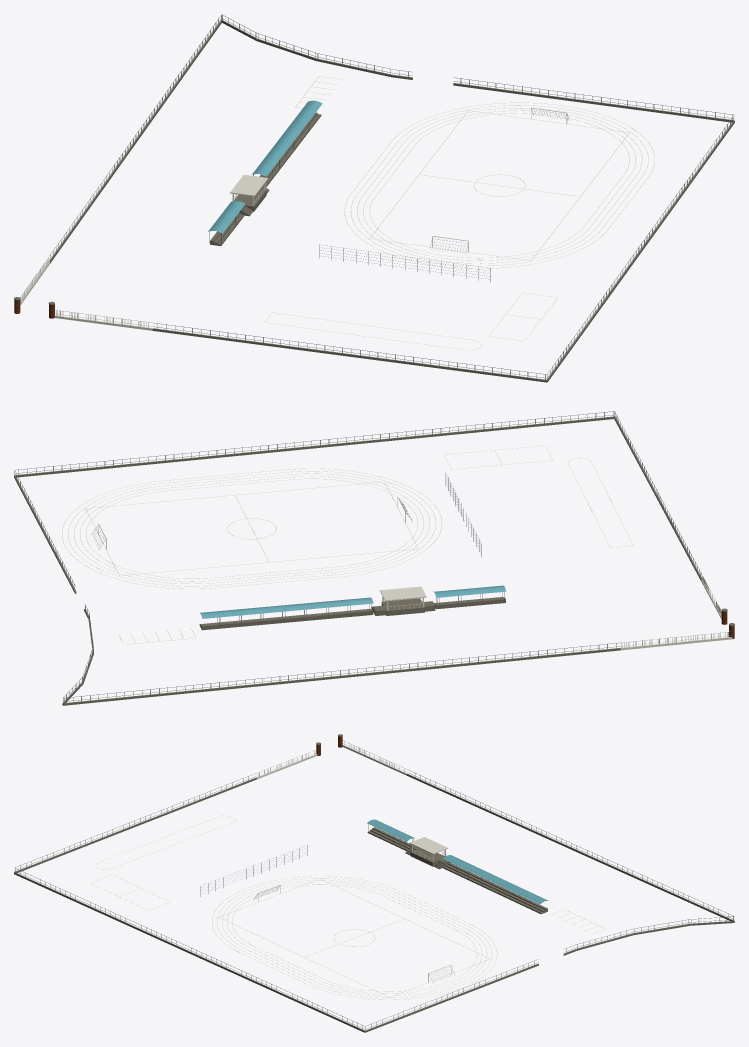
The picture shows the model from 3 angles, top to bottom: view 1: azimuth 30°, elevation 25°; view 2: azimuth 150°, elevation 25°; view 3: azimuth 270°, elevation 25°; orthographic projection. The views are drawn at different scales.
Visible parts, largest first — view 1: boundary-plinth__stand-concrete, track-lanes__line-paint, boundary-rails__site-steel, boundary-post__site-steel, stand-canopy-east__canopy-pale-blue, football-lines__line-paint; view 2: boundary-plinth__stand-concrete, track-lanes__line-paint, boundary-rails__site-steel, boundary-post__site-steel, stand-canopy-east__canopy-pale-blue, stand-east-tread-3__stand-concrete, football-lines__line-paint, assembly-platform__stand-concrete, assembly-roof__line-paint, stand-canopy-west__canopy-pale-blue; view 3: boundary-plinth__stand-concrete, boundary-rails__site-steel, track-lanes__line-paint, boundary-post__site-steel, stand-canopy-east__canopy-pale-blue, football-lines__line-paint.
Boxes of the visible parts, bbox=[...] form: boundary-plinth__stand-concrete: bbox=[49, 20, 734, 382]; track-lanes__line-paint: bbox=[344, 102, 654, 268]; boundary-rails__site-steel: bbox=[49, 14, 734, 378]; boundary-post__site-steel: bbox=[50, 14, 733, 379]; stand-canopy-east__canopy-pale-blue: bbox=[252, 100, 322, 176]; football-lines__line-paint: bbox=[369, 110, 629, 260]; boundary-plinth__stand-concrete: bbox=[14, 416, 702, 705]; track-lanes__line-paint: bbox=[62, 468, 442, 588]; boundary-rails__site-steel: bbox=[14, 411, 701, 701]; boundary-post__site-steel: bbox=[14, 411, 701, 702]; stand-canopy-east__canopy-pale-blue: bbox=[200, 597, 373, 618]; stand-east-tread-3__stand-concrete: bbox=[201, 609, 373, 630]; football-lines__line-paint: bbox=[85, 481, 418, 575]; assembly-platform__stand-concrete: bbox=[381, 598, 424, 615]; assembly-roof__line-paint: bbox=[380, 586, 426, 601]; stand-canopy-west__canopy-pale-blue: bbox=[433, 585, 506, 597]; boundary-plinth__stand-concrete: bbox=[14, 774, 734, 1032]; boundary-rails__site-steel: bbox=[15, 769, 734, 1029]; track-lanes__line-paint: bbox=[212, 876, 497, 999]; boundary-post__site-steel: bbox=[15, 773, 733, 1030]; stand-canopy-east__canopy-pale-blue: bbox=[442, 855, 548, 904]; football-lines__line-paint: bbox=[219, 879, 489, 997].
Bounding box in the file's own units: 165 × 3.63 × 175.
Materials: 5 (2 with a texture image).
